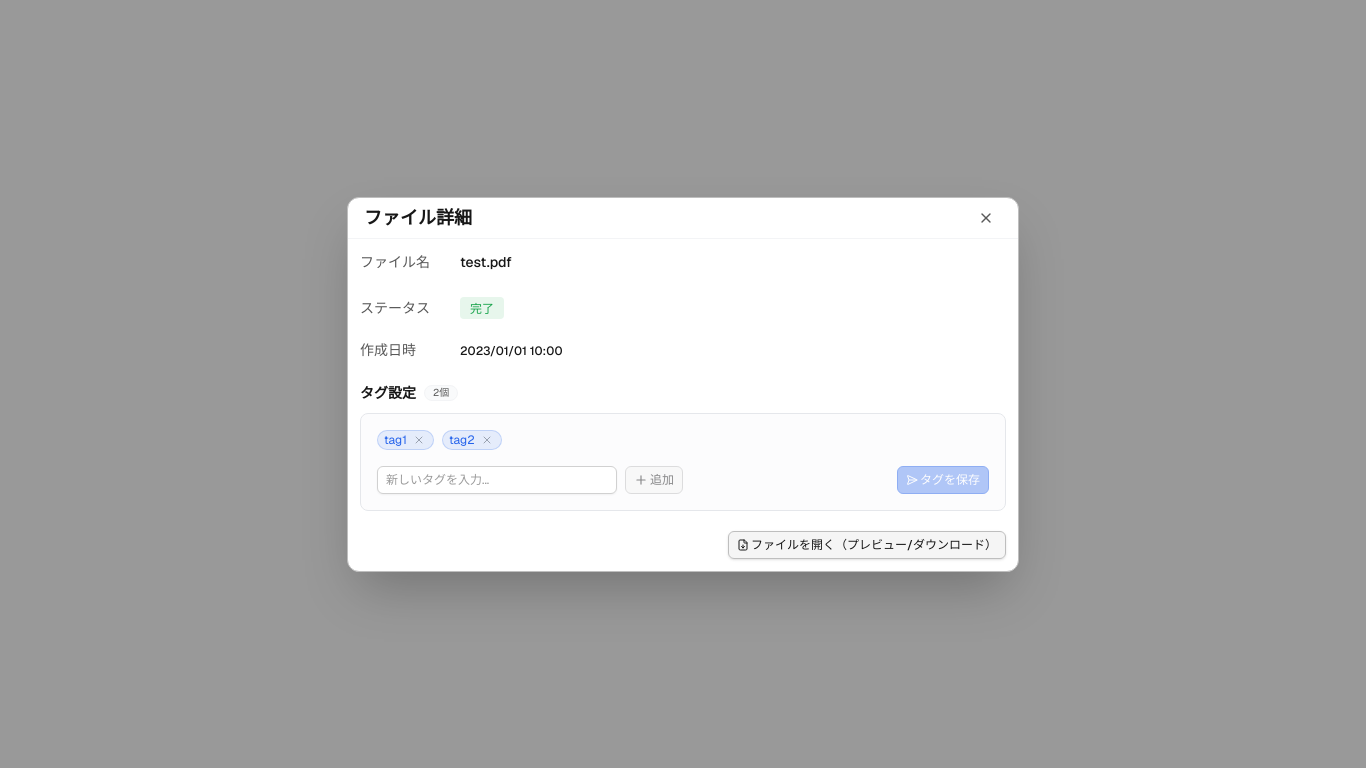
Test: DocumentDetailsModal › handles tag removal
The width and height of the screenshot is (1366, 768).
// 削除ボタンをクリックしてタグを削除
Click the button titled "タグを削除" next to "tag1": (419, 440) [411,432,427,448]
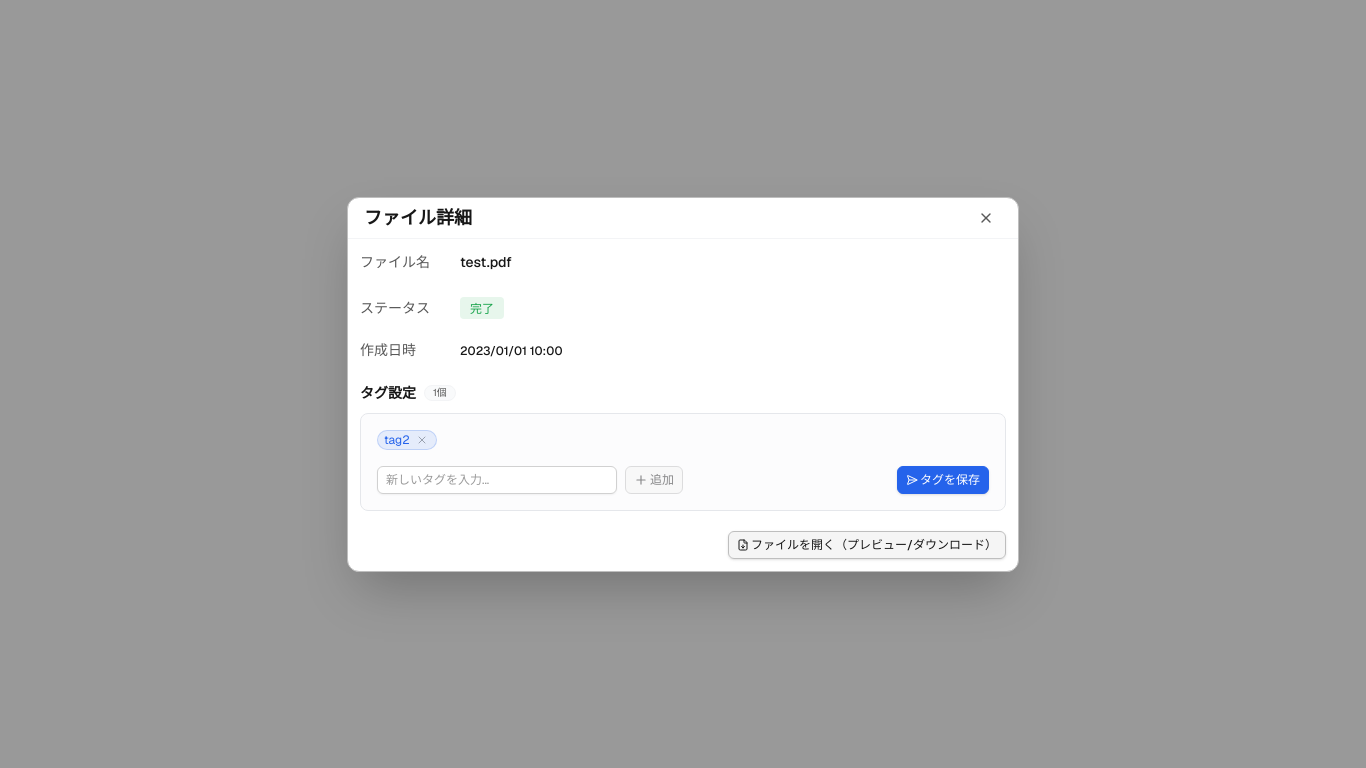
Expected: the text "tag2" is shown, [377,430,437,450]
Expected: the text "tag1" is gone
